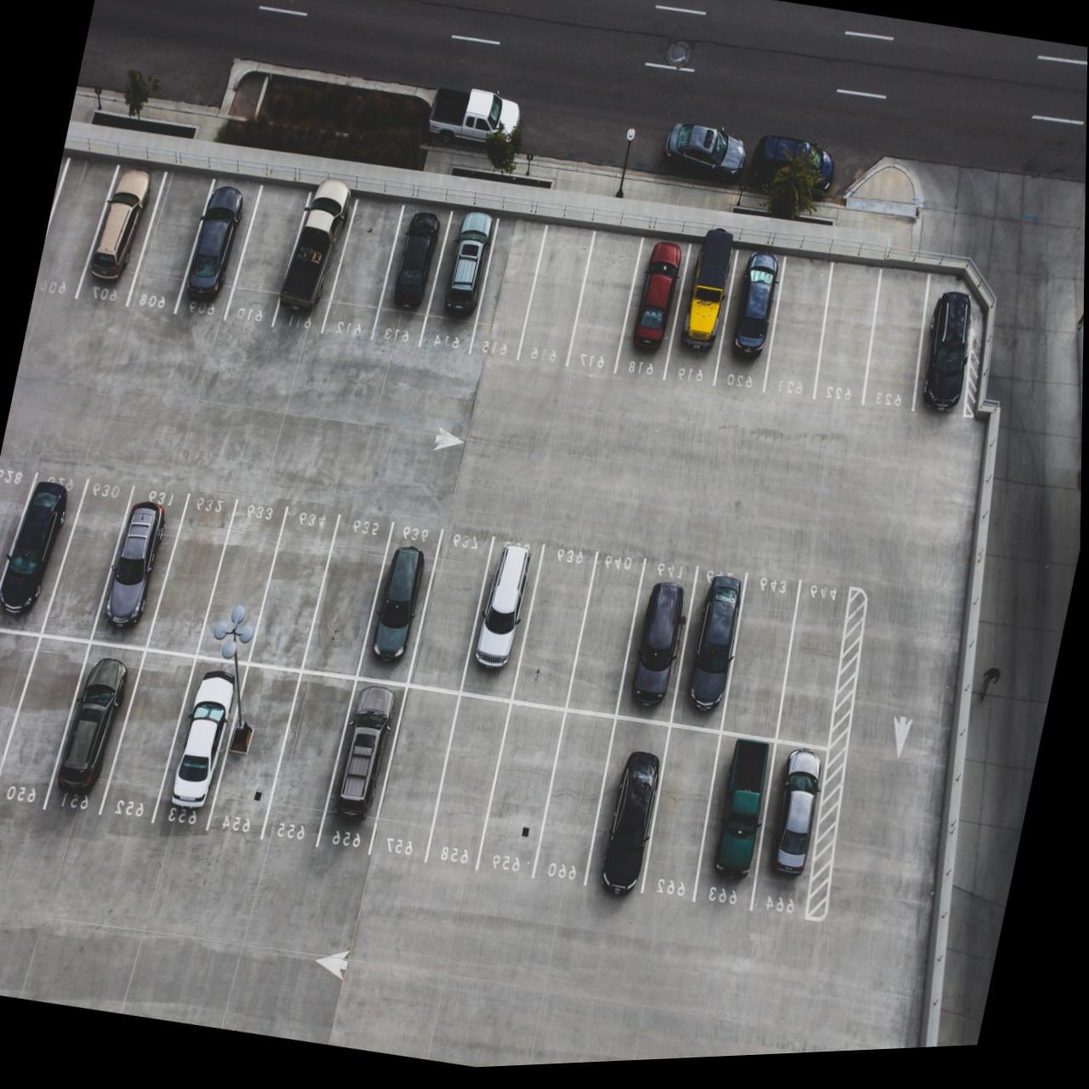cars: (41, 630, 145, 823), (204, 660, 296, 848), (318, 677, 406, 866), (582, 707, 669, 898), (687, 737, 774, 917), (92, 479, 187, 642), (0, 458, 84, 633), (664, 567, 750, 734), (164, 654, 243, 831), (352, 531, 433, 696), (273, 180, 355, 342), (750, 749, 834, 907), (710, 245, 789, 412), (908, 260, 990, 420), (615, 563, 699, 719), (73, 169, 161, 311), (664, 237, 740, 397), (178, 180, 260, 326), (613, 229, 687, 389), (462, 547, 539, 697), (371, 196, 449, 341), (420, 209, 499, 352)
empty: (105, 645, 199, 830), (0, 628, 88, 816), (418, 697, 508, 877), (531, 702, 617, 888), (266, 666, 356, 842), (299, 516, 389, 692), (369, 692, 456, 867), (219, 179, 308, 345), (480, 705, 567, 874), (637, 732, 720, 908), (756, 248, 841, 417), (714, 583, 801, 747), (775, 585, 857, 752), (411, 528, 495, 690), (515, 551, 594, 718), (252, 511, 334, 671), (201, 498, 284, 656), (568, 546, 647, 710), (50, 478, 129, 642), (320, 194, 403, 350), (807, 255, 886, 417), (565, 226, 645, 383), (513, 223, 595, 374), (466, 216, 547, 367), (129, 177, 210, 325), (859, 260, 935, 414), (36, 154, 113, 305), (157, 497, 230, 640), (0, 626, 34, 813), (0, 449, 33, 620)
